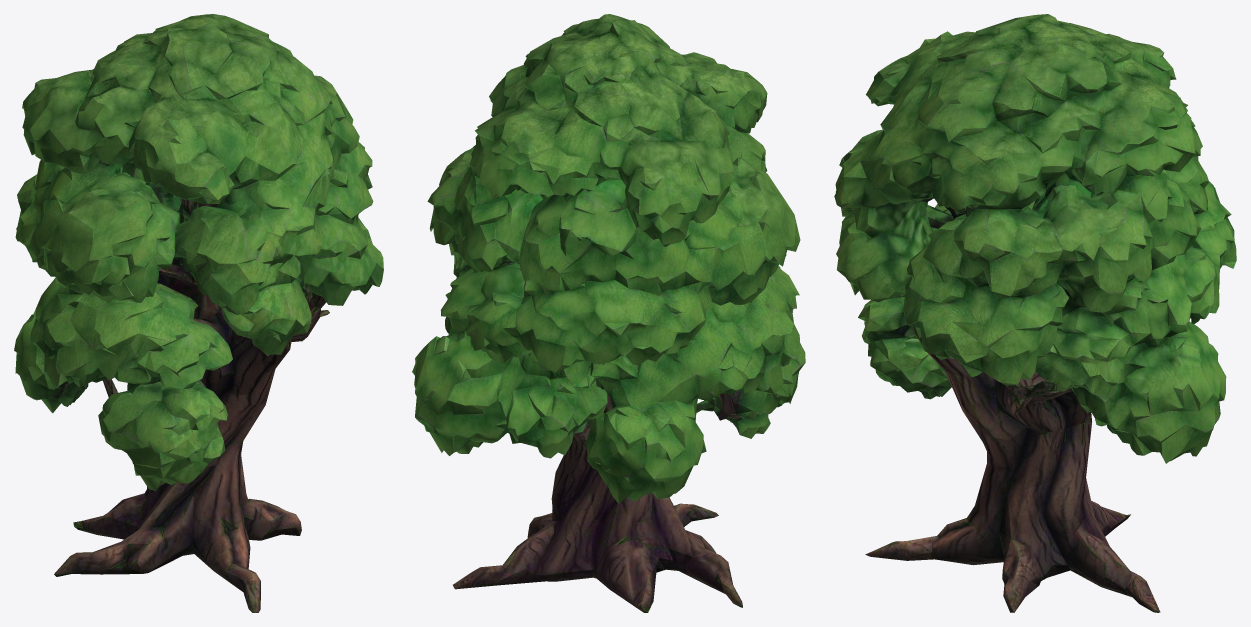
Rendered from Oak.glb.
The picture shows the model from 3 angles, left to right: view 1: azimuth 30°, elevation 25°; view 2: azimuth 150°, elevation 25°; view 3: azimuth 270°, elevation 25°; orthographic projection. The views are drawn at different scales.
Size of the model in its own units: 3.75 by 6 by 3.97.
Materials: 1 (1 with a texture image).
